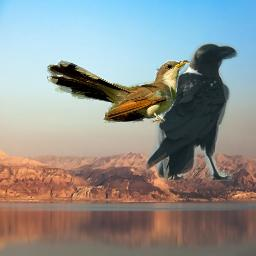Crow: (144, 42, 241, 181)
Cuckoo: (47, 60, 190, 123)
